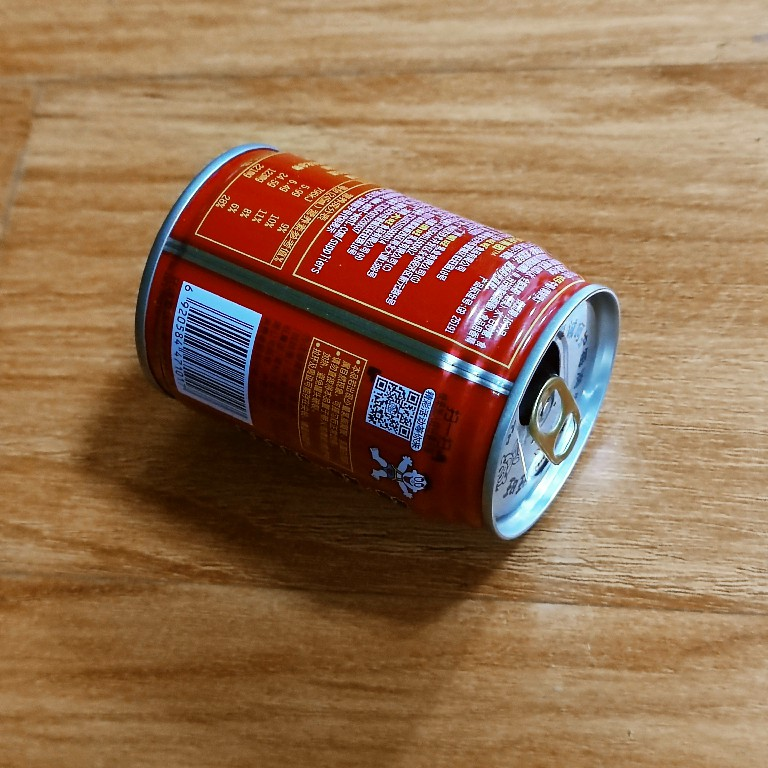can: (127, 139, 629, 548)
